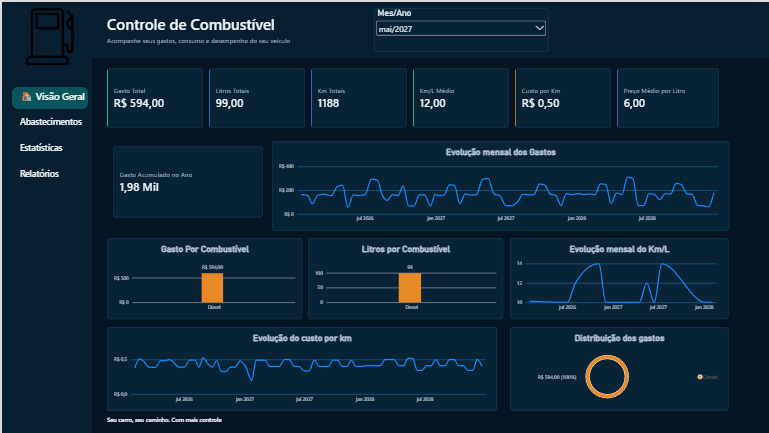

Layout of this report page (visuals, bound fields, positions):
{"tool":"powerbi","page":{"name":"Página 1","canvas":[1920,1080],"ordinal":0},"visuals":[{"type":"shape","box":[0,0,1920.2,140.4],"z":0},{"type":"cardVisual","fields":{"Data":["Sum(Tabela1.Valor)"]},"box":[263,165,240,150],"z":1000},{"type":"cardVisual","fields":{"Data":["Sum(Tabela1.Litros)"]},"box":[518,165,240,150],"z":2000},{"type":"cardVisual","fields":{"Data":["Sum(Tabela1.Km Rodados)"]},"box":[773.3,164.2,240,150],"z":3000},{"type":"cardVisual","fields":{"Data":["Avg(Tabela1.Km/L)"]},"box":[1028,165,240,150],"z":4000},{"type":"cardVisual","fields":{"Data":["Tabela1.Custo por Km"]},"box":[1283,165,240,150],"z":5000},{"type":"columnChart","title":"Gasto Por Combustível","fields":{"Category":["Tabela1.Combustivel"],"Y":["Sum(Tabela1.Valor)"]},"box":[263,590,488,203],"z":6000},{"type":"columnChart","title":"Litros por Combustível","fields":{"Category":["Tabela1.Combustivel"],"Y":["Sum(Tabela1.Litros)"]},"box":[766,590,488,203],"z":7000},{"type":"lineChart","title":"Evolução mensal dos Gastos","fields":{"Category":["Tabela1.Data.Variation.Hierarquia de datas.Ano"],"Y":["Sum(Tabela1.Valor)"]},"box":[673.9,347.8,1142.6,224.6],"z":8000},{"type":"slicer","fields":{"Values":["Calendario.Mes Ano"]},"box":[928.8,15.1,436.3,110.2],"z":9000},{"type":"cardVisual","title":"Gasto Acumulado no Ano","fields":{"Data":["Tabela1.Gasto Acumulado Ano"]},"box":[278.6,360.7,375,180],"z":10000},{"type":"lineChart","title":"Evolução mensal do Km/L","fields":{"Category":["Tabela1.Data.Variation.Hierarquia de datas.Ano"],"Y":["Sum(Tabela1.Km/L)"]},"box":[1269,590,546,203],"z":11000},{"type":"lineChart","title":"Evolução do custo por km","fields":{"Category":["Tabela1.Data.Variation.Hierarquia de datas.Ano"],"Y":["Tabela1.Custo por Km"]},"box":[263,813,975,210],"z":12000},{"type":"shape","box":[0,0,225,1080],"z":13000},{"type":"textbox","box":[263,86,750,33],"z":14000},{"type":"textbox","box":[263,30,675,53],"z":15000},{"type":"cardVisual","fields":{"Data":["Tabela1.Preço Médio por Litro"]},"box":[1538,165,255,150],"z":16000},{"type":"donutChart","title":"Distribuição dos gastos","fields":{"Category":["Tabela1.Combustivel"],"Y":["Sum(Tabela1.Valor)"]},"box":[1269,813,546,210],"z":17000},{"type":"shape","box":[25,212,190,55],"z":18000},{"type":"textbox","box":[45,220,165,45],"z":19000},{"type":"textbox","box":[45,285,165,45],"z":20000},{"type":"textbox","box":[45,350,165,45],"z":21000},{"type":"textbox","box":[45,415,165,45],"z":22000},{"type":"textbox","box":[263,1035,500,25],"z":23000},{"type":"image","box":[30.2,15.1,179.3,142.6],"z":24000}]}

Visuals, with their boxes on the page's 1920x1080 design canvas (x1, y1, x2, y2). These are canvas units, not pixel positions in the 769x433 screenshot, which may show the page scaled, cropped or inside an application window:
shape: bbox=[0, 0, 1920, 140]
cardVisual - Sum(Tabela1.Valor): bbox=[263, 165, 503, 315]
cardVisual - Sum(Tabela1.Litros): bbox=[518, 165, 758, 315]
cardVisual - Sum(Tabela1.Km Rodados): bbox=[773, 164, 1013, 314]
cardVisual - Avg(Tabela1.Km/L): bbox=[1028, 165, 1268, 315]
cardVisual - Tabela1.Custo por Km: bbox=[1283, 165, 1523, 315]
"Gasto Por Combustível" columnChart: bbox=[263, 590, 751, 793]
"Litros por Combustível" columnChart: bbox=[766, 590, 1254, 793]
"Evolução mensal dos Gastos" lineChart: bbox=[674, 348, 1816, 572]
slicer - Calendario.Mes Ano: bbox=[929, 15, 1365, 125]
"Gasto Acumulado no Ano" cardVisual: bbox=[279, 361, 654, 541]
"Evolução mensal do Km/L" lineChart: bbox=[1269, 590, 1815, 793]
"Evolução do custo por km" lineChart: bbox=[263, 813, 1238, 1023]
shape: bbox=[0, 0, 225, 1080]
textbox: bbox=[263, 86, 1013, 119]
textbox: bbox=[263, 30, 938, 83]
cardVisual - Tabela1.Preço Médio por Litro: bbox=[1538, 165, 1793, 315]
"Distribuição dos gastos" donutChart: bbox=[1269, 813, 1815, 1023]
shape: bbox=[25, 212, 215, 267]
textbox: bbox=[45, 220, 210, 265]
textbox: bbox=[45, 285, 210, 330]
textbox: bbox=[45, 350, 210, 395]
textbox: bbox=[45, 415, 210, 460]
textbox: bbox=[263, 1035, 763, 1060]
image: bbox=[30, 15, 210, 158]
